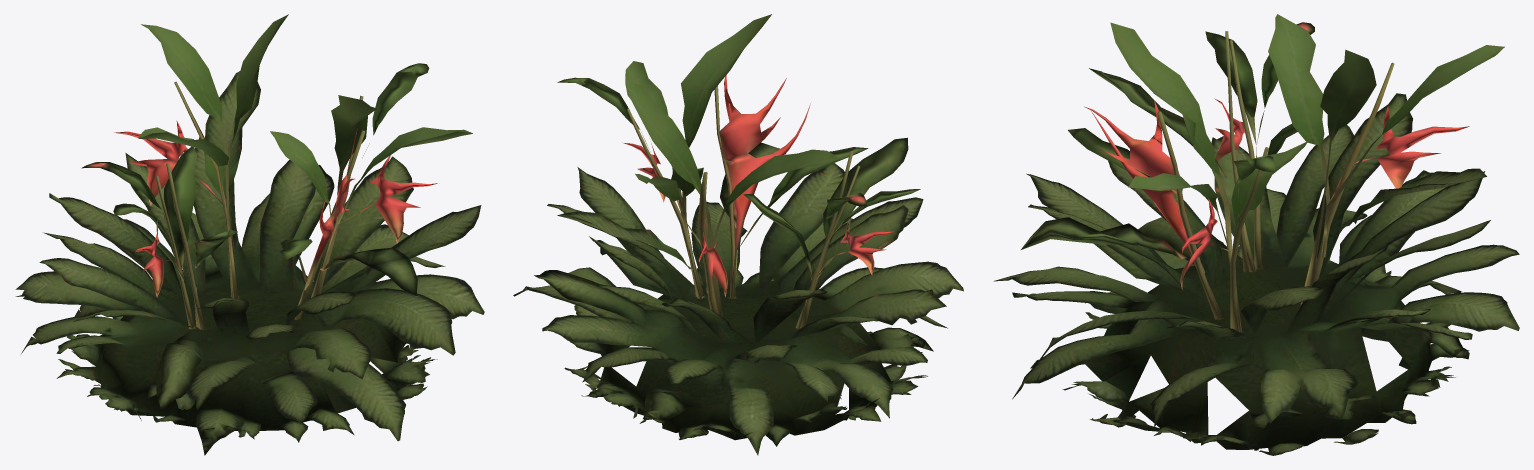
The model's file is javaporcos_mint_moita.glb.
The picture shows the model from 3 angles, left to right: view 1: azimuth 30°, elevation 25°; view 2: azimuth 150°, elevation 25°; view 3: azimuth 270°, elevation 25°; orthographic projection. The views are drawn at different scales.
Parts seen in each view (by area): view 1: Moita de samambaia e helicônia; view 2: Moita de samambaia e helicônia; view 3: Moita de samambaia e helicônia.
Boxes of the visible parts, box(x1,y1,x2,y2) form: Moita de samambaia e helicônia: box(15, 14, 484, 455); Moita de samambaia e helicônia: box(513, 14, 963, 455); Moita de samambaia e helicônia: box(993, 14, 1519, 455).
Bounding box in the file's own units: 1.93 × 1.5 × 1.91.
1 material, 1 textured.
